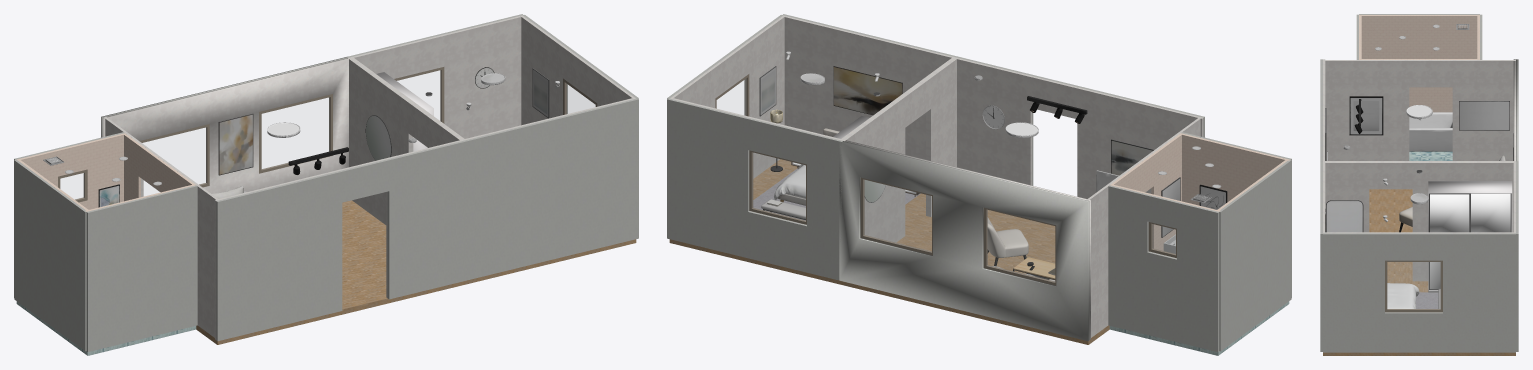
File: scene_web.glb
3 views of the same model, side by side, from view 1: azimuth 30°, elevation 25°; view 2: azimuth 150°, elevation 25°; view 3: azimuth 270°, elevation 25° (orthographic). The views are drawn at different scales.
Visible parts, largest first — view 1: geometry_0.003, geometry_0.034, geometry_0.059, geometry_0, geometry_0.062, geometry_0.031, geometry_0.004, Mesh_0, geometry_0.035, geometry_0.056, glass.001, geometry_0.005 (+16 smaller); view 2: geometry_0.001, geometry_0.032, geometry_0.057, geometry_0.002, geometry_0.033, geometry_0.062, geometry_0.004, geometry_0.035, geometry_0.058, Mesh_0, glass, glass.001 (+22 smaller); view 3: geometry_0.036, geometry_0.005, geometry_0.037, geometry_0.061, glass.003, Mesh_0, P_da243560eb11fec9.001, geometry_0.063, P_2c2645da83e83297.001, geometry_0.015, P_d053e22ef8f39d2.001, geometry_0.016 (+21 smaller).
Part boxes in pixels (x1,y1,x2,y2): geometry_0.003: (216, 141, 463, 341); geometry_0.034: (463, 98, 638, 280); geometry_0.059: (86, 185, 197, 351); geometry_0: (102, 58, 348, 193); geometry_0.062: (14, 159, 86, 351); geometry_0.031: (353, 16, 521, 138); geometry_0.004: (348, 57, 463, 224); Mesh_0: (196, 200, 463, 344); geometry_0.035: (520, 15, 635, 125); geometry_0.056: (19, 133, 125, 209); glass.001: (262, 97, 329, 169); geometry_0.005: (104, 117, 219, 337); geometry_0.001: (839, 141, 1089, 341); geometry_0.032: (667, 98, 842, 280); geometry_0.057: (1108, 185, 1219, 351); geometry_0.002: (957, 58, 1203, 198); geometry_0.033: (784, 16, 952, 159); geometry_0.062: (1219, 160, 1291, 351); geometry_0.004: (842, 57, 957, 242); geometry_0.035: (670, 15, 785, 178); geometry_0.058: (1180, 133, 1289, 205); Mesh_0: (842, 210, 1109, 344); glass: (987, 210, 1054, 281); glass.001: (864, 180, 931, 251); geometry_0.036: (1323, 233, 1515, 352); geometry_0.005: (1323, 60, 1515, 160); geometry_0.037: (1323, 162, 1515, 281); geometry_0.061: (1359, 15, 1477, 112); glass.003: (1387, 262, 1440, 308); Mesh_0: (1369, 189, 1412, 280); P_da243560eb11fec9.001: (1430, 194, 1469, 288); geometry_0.063: (1409, 112, 1452, 151); P_2c2645da83e83297.001: (1471, 193, 1510, 232); geometry_0.015: (1459, 101, 1509, 130); P_d053e22ef8f39d2.001: (1428, 181, 1512, 292); geometry_0.016: (1349, 96, 1383, 135).
Bounding box in the file's own units: 10.8 × 2.8 × 4.1.
68 materials, 59 textured.
